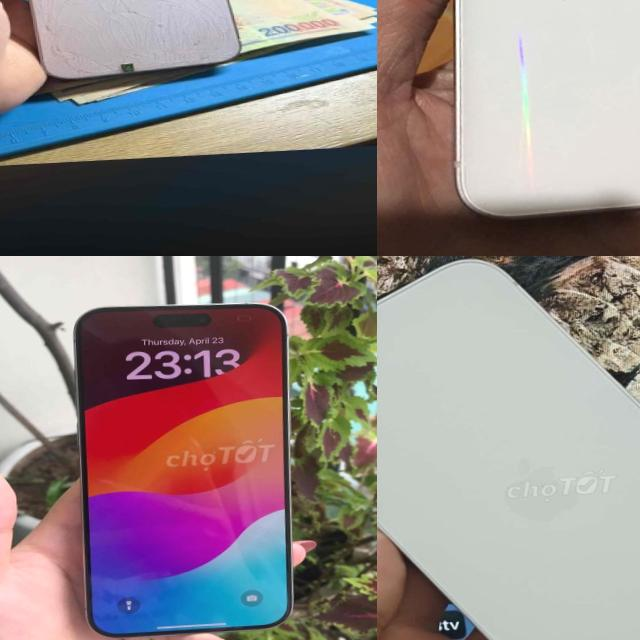gen_12_13: (420, 0, 640, 256)
gen_14: (10, 0, 244, 79)
gen_15: (50, 274, 305, 640)
gen_16: (377, 260, 640, 640)
physical_damage: (148, 0, 229, 63), (89, 2, 157, 72), (34, 4, 95, 76)
